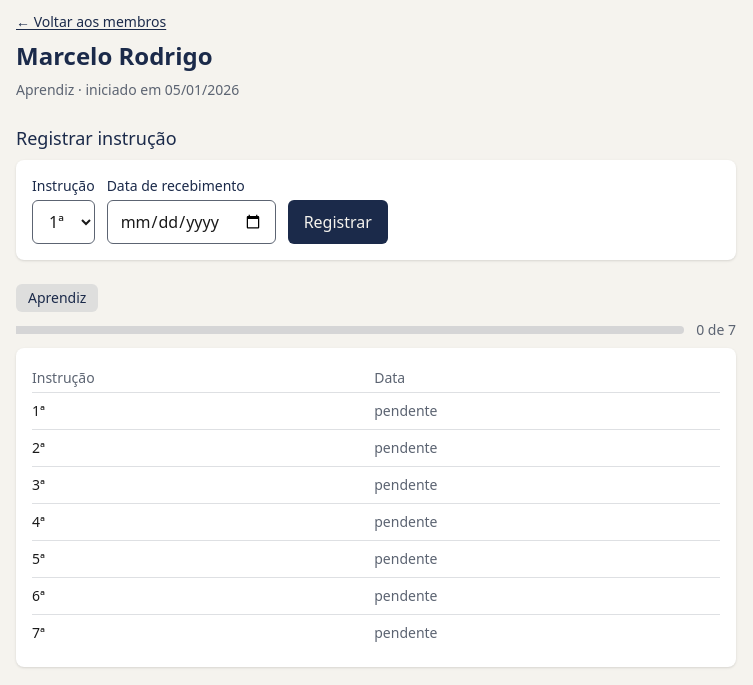
Test case: MembroDetalhesPage › editor registra uma instrução e ela aparece na tabela
Expected: the heading "Marcelo Rodrigo" is shown, [16,39,213,72]
Type "2026-04-15" into the date field labelled "Data de recebimento" at (191, 222), box [107,200,276,244]
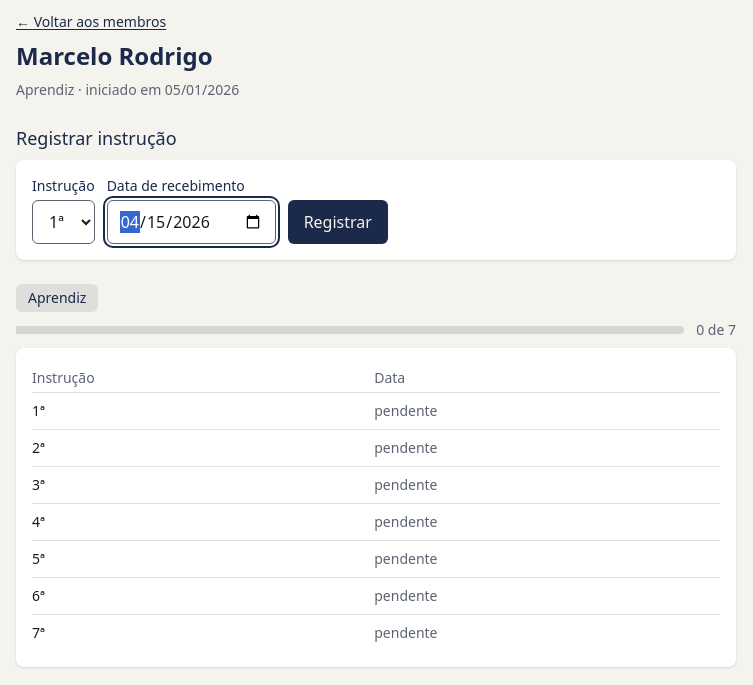
Click the button "Registrar" at (338, 222), box [288,200,388,244]
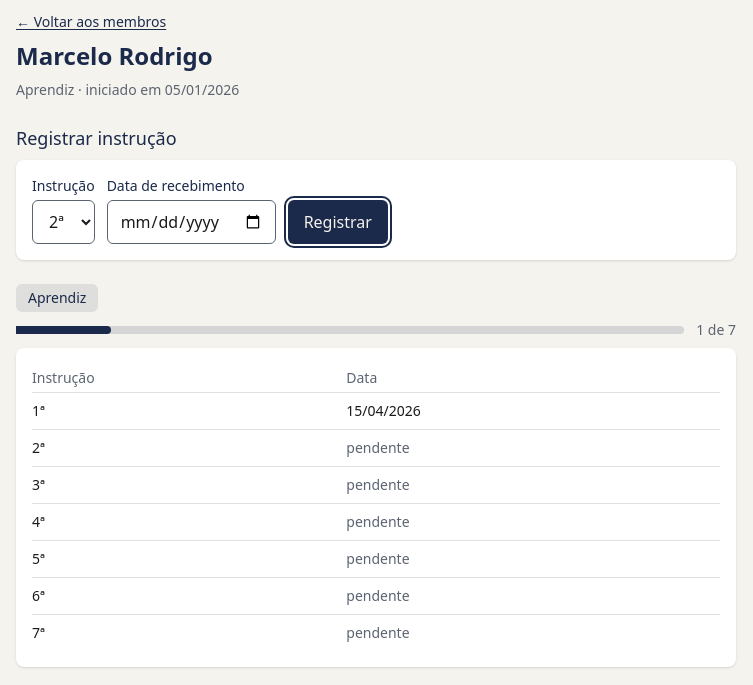
Expected: the text "15/04/2026" is shown, [346,401,421,420]
